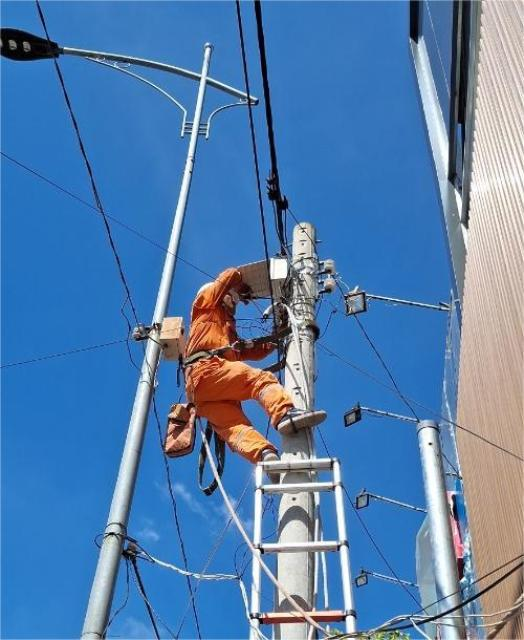harness: (157, 345, 233, 366)
shoes: (259, 401, 341, 441), (240, 440, 290, 486)
